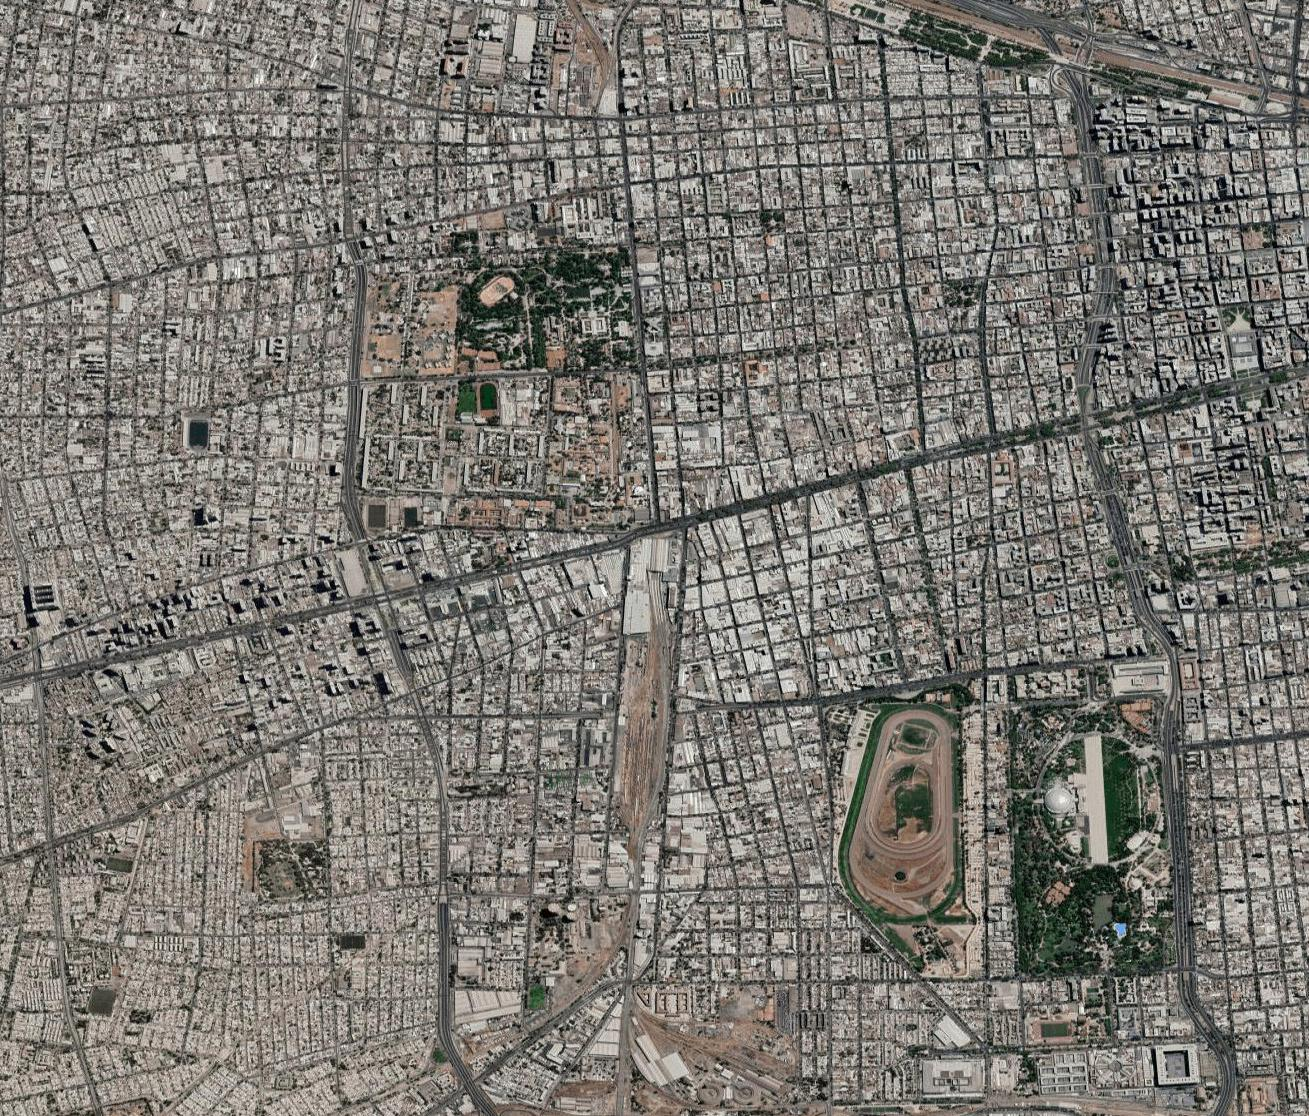motorway: (1164, 773, 1202, 990), (1181, 991, 1245, 1116), (1150, 621, 1191, 774), (1103, 493, 1150, 619), (1068, 76, 1104, 224), (1078, 354, 1114, 502), (1085, 209, 1121, 356)
train_station: (619, 526, 686, 648)
